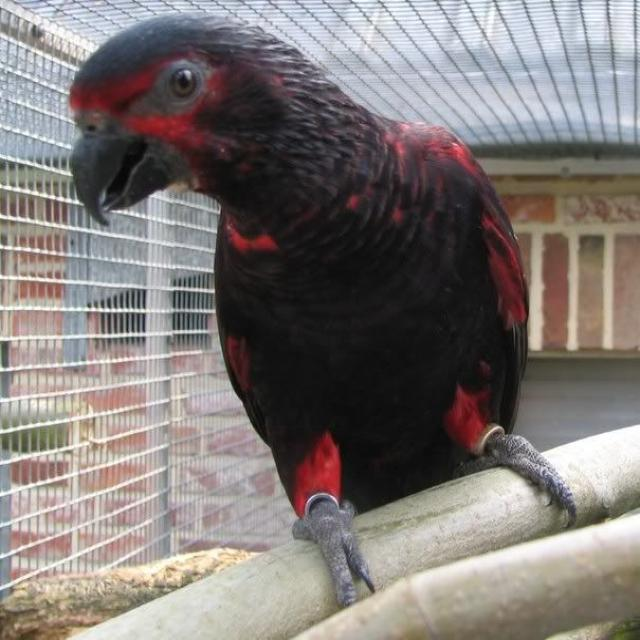Nuri Hitam: (47, 15, 593, 627)
